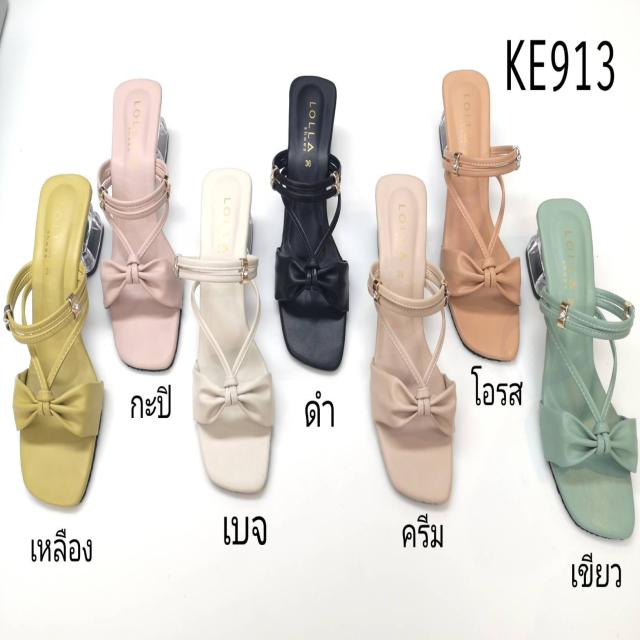bej: (180, 166, 274, 498)
black: (270, 72, 350, 372)
cream: (372, 175, 455, 508)
green: (533, 199, 636, 542)
kapi: (95, 77, 184, 370)
orot: (441, 68, 523, 368)
yellow: (7, 172, 102, 510)
